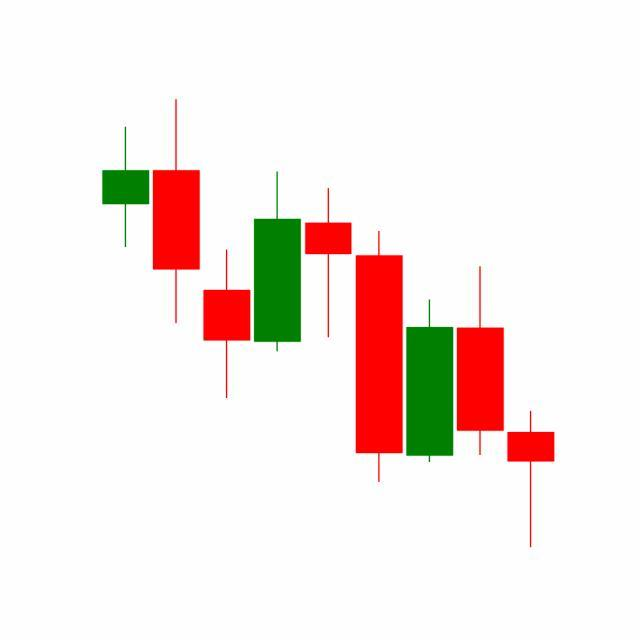Hikkake Pattern: (252, 168, 506, 486)
